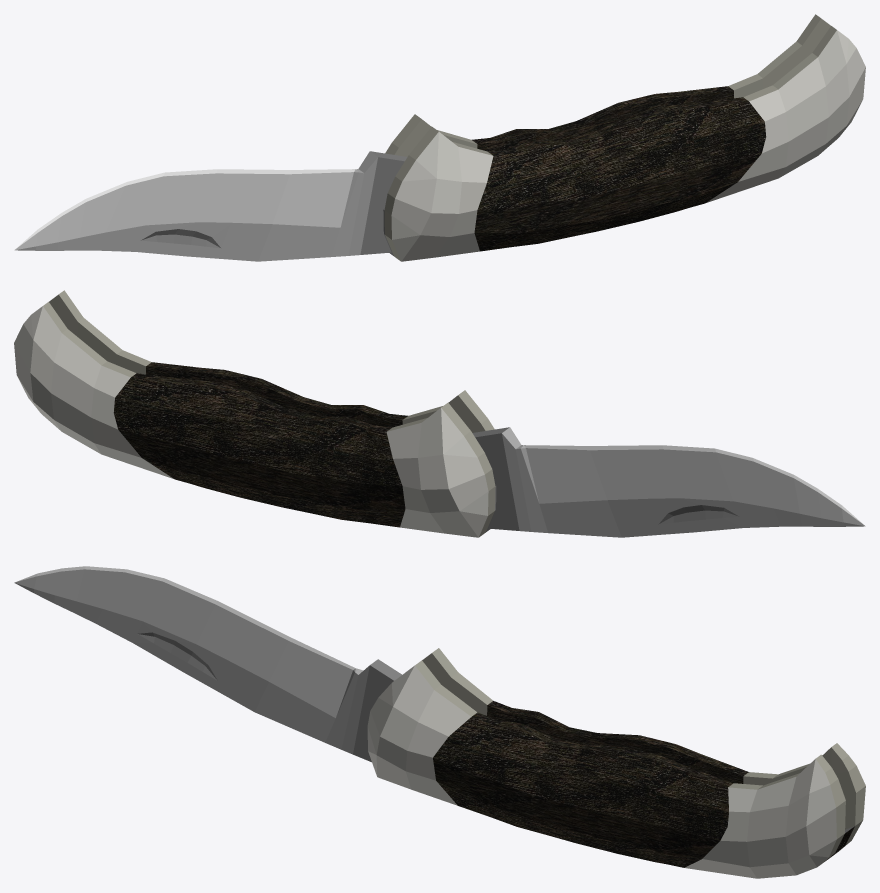
The model's file is Jackknife.fbx.
3 renders of one model, top to bottom at view 1: azimuth 30°, elevation 25°; view 2: azimuth 150°, elevation 25°; view 3: azimuth 330°, elevation 25°, orthographic.
Parts seen in each view (by area): view 1: ZomboidJackknife; view 2: ZomboidJackknife; view 3: ZomboidJackknife.
Boxes of the visible parts, left/top/right/bottom form: ZomboidJackknife: left=14, top=14, right=865, bottom=261; ZomboidJackknife: left=14, top=290, right=865, bottom=537; ZomboidJackknife: left=14, top=566, right=865, bottom=878.
Size of the model in its own units: 0.1903 by 0.0336 by 0.0204.
